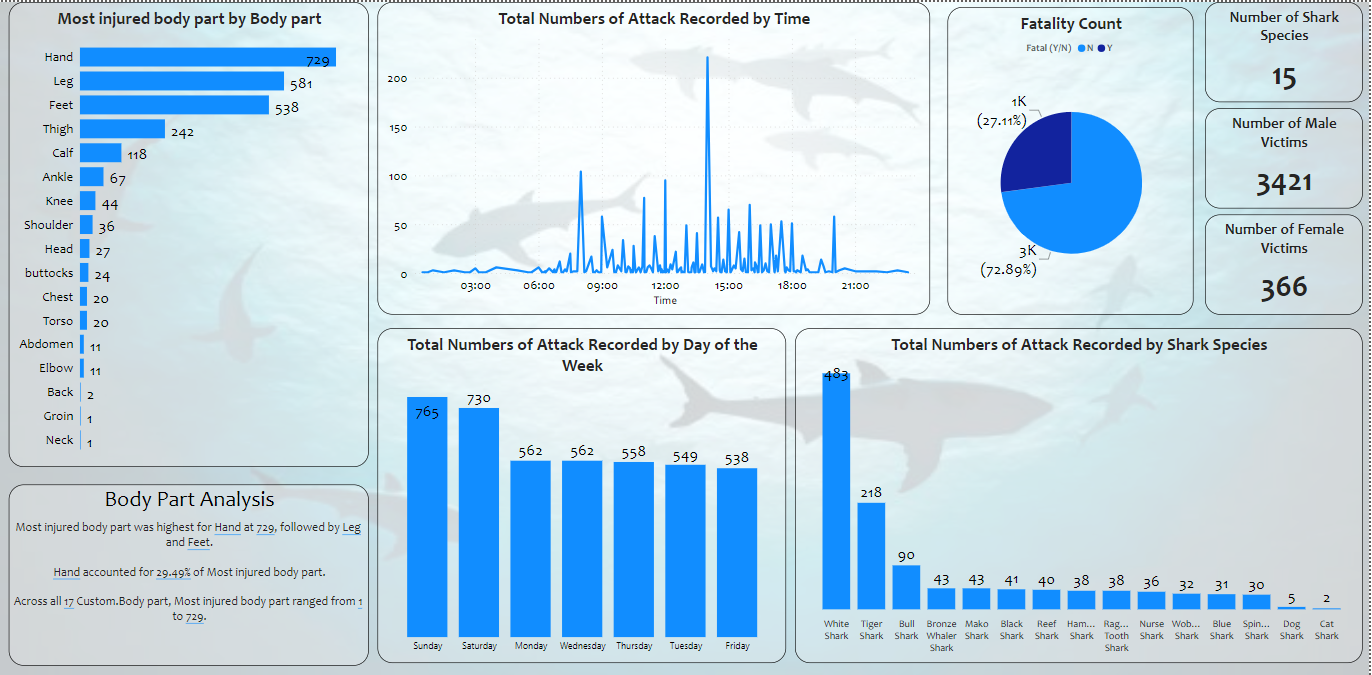

The page's visual inventory and layout, read from the dashboard file:
{"tool":"powerbi","page":{"name":"Page 2","canvas":[1825,900],"ordinal":1},"visuals":[{"type":"barChart","fields":{"Category":["attacks.Custom.Body part"],"Y":["DAX.Most injured body part"]},"box":[11.7,0,480,620],"z":0},{"type":"pieChart","title":"Fatality Count","fields":{"Category":["attacks.Fatal (Y/N)"],"Y":["DAX.Total Fatality"]},"box":[1263.3,6.7,328.3,410],"z":1000},{"type":"textbox","title":"Body Part Analysis","box":[11.7,643.3,480,241.7],"z":2000},{"type":"lineChart","fields":{"Category":["attacks.Time.Custom"],"Y":["DAX.Total Numbers of Attack Recorded"]},"box":[503.3,0,736.7,416.7],"z":3000},{"type":"columnChart","fields":{"Category":["attacks.Custom.Shark"],"Y":["DAX.Total Numbers of Attack Recorded"]},"box":[1060,435,756.7,446.7],"z":4000},{"type":"card","title":"Number of Shark Species","fields":{"Values":["DAX.Number of Shark species"]},"box":[1606.7,0,210,133.3],"z":5000},{"type":"columnChart","fields":{"Category":["attacks.Day of the Week"],"Y":["DAX.Total Numbers of Attack Recorded"]},"box":[503.3,435,545,446.7],"z":6000},{"type":"card","title":"Number of Male Victims","fields":{"Values":["DAX.Number of Male"]},"box":[1606.7,141.7,210,133.3],"z":7000},{"type":"card","title":"Number of Female Victims","fields":{"Values":["DAX.Number of Females"]},"box":[1606.7,283.3,210,133.3],"z":8000}]}

Visuals, with their boxes in screenshot pixels (x1, y1, x2, y2), scaled from the page's 1825x900 canvas onto the 1372x675 screenshot:
barChart - attacks.Custom.Body part x DAX.Most injured body part: (x1=9, y1=0, x2=370, y2=465)
"Fatality Count" pieChart: (x1=950, y1=5, x2=1197, y2=313)
"Body Part Analysis" textbox: (x1=9, y1=482, x2=370, y2=664)
lineChart - attacks.Time.Custom x DAX.Total Numbers of Attack Recorded: (x1=378, y1=0, x2=932, y2=313)
columnChart - attacks.Custom.Shark x DAX.Total Numbers of Attack Recorded: (x1=797, y1=326, x2=1366, y2=661)
"Number of Shark Species" card: (x1=1208, y1=0, x2=1366, y2=100)
columnChart - attacks.Day of the Week x DAX.Total Numbers of Attack Recorded: (x1=378, y1=326, x2=788, y2=661)
"Number of Male Victims" card: (x1=1208, y1=106, x2=1366, y2=206)
"Number of Female Victims" card: (x1=1208, y1=212, x2=1366, y2=312)
